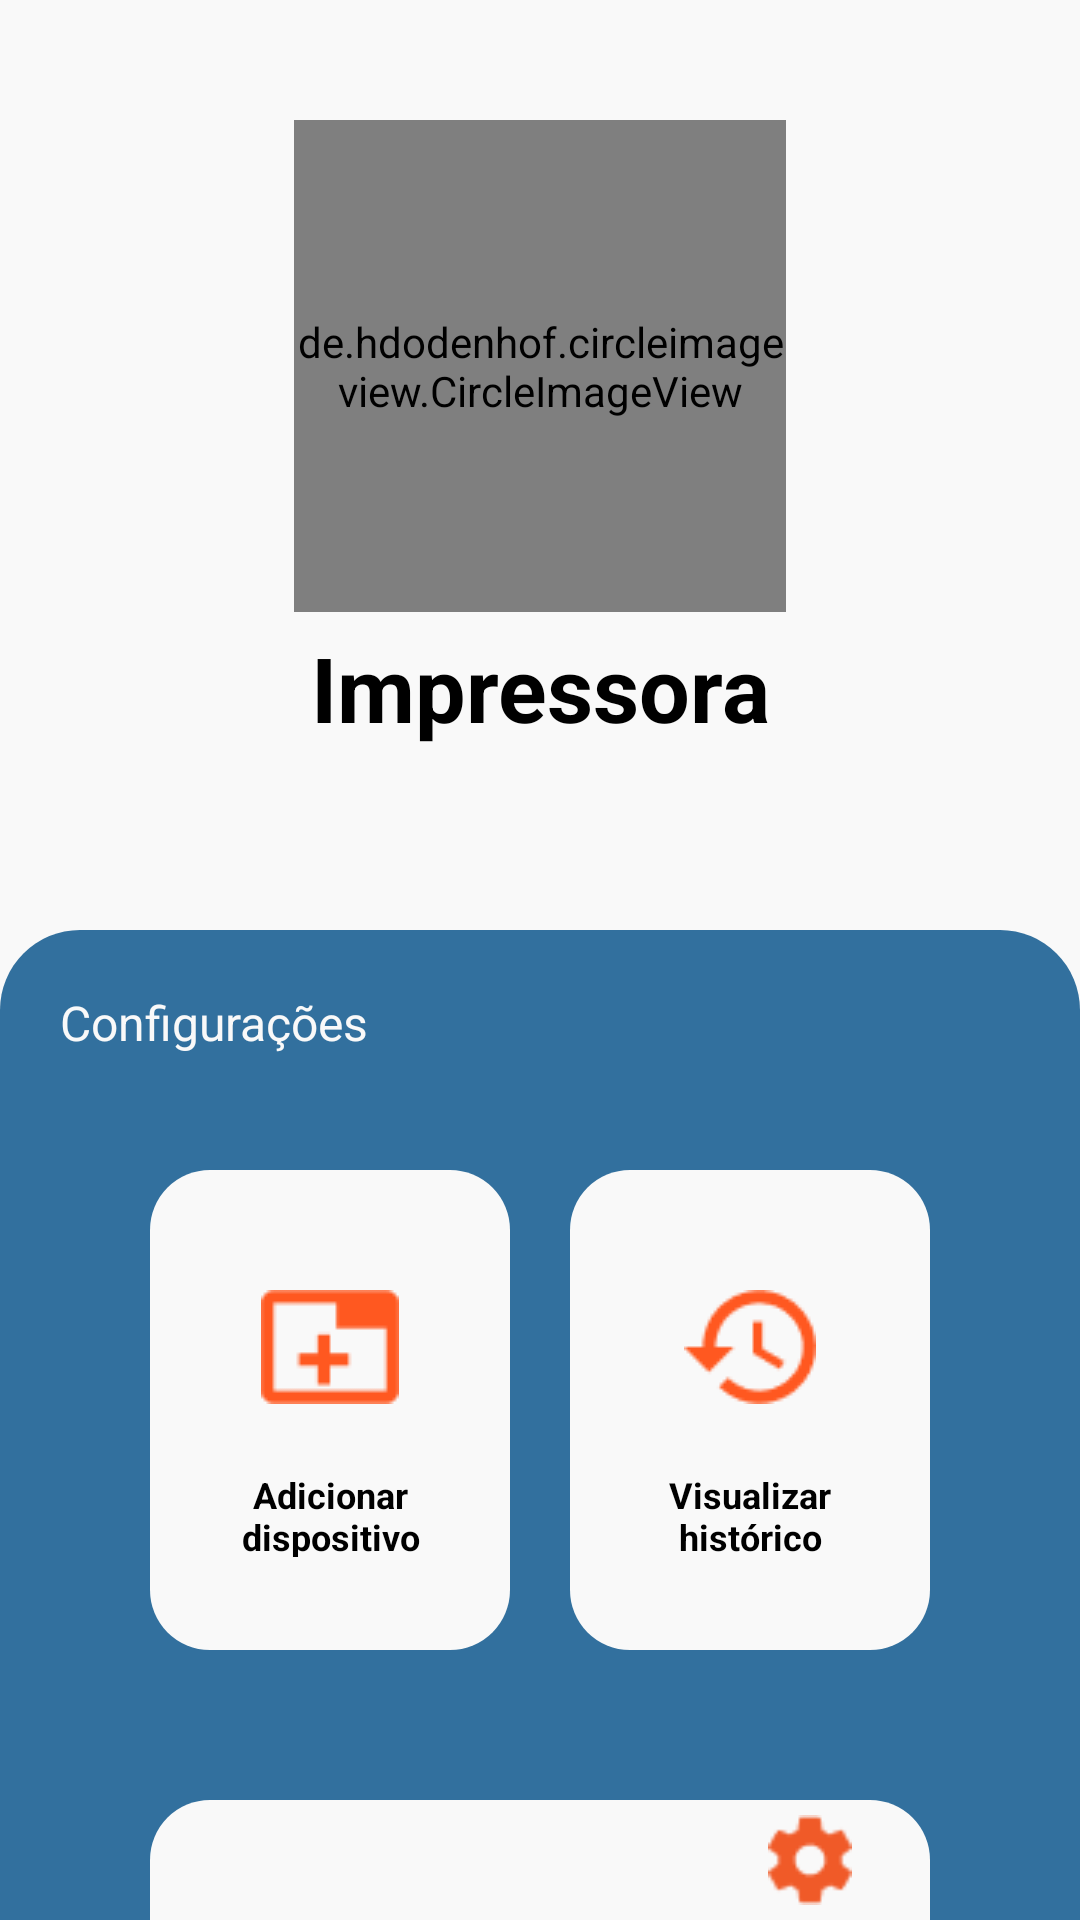

Icon click points for this 1080*1920 phone screenshot, format (x,y):
config: (810,1860)
history: (750,1347)
